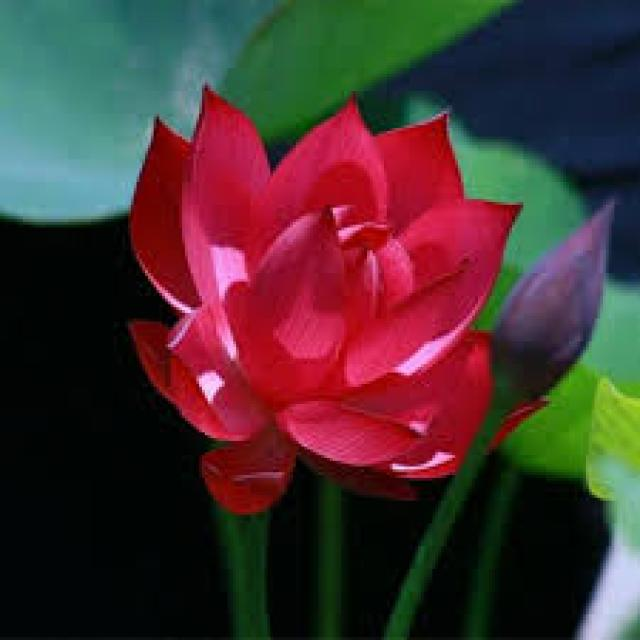lotus: (112, 64, 525, 536)
